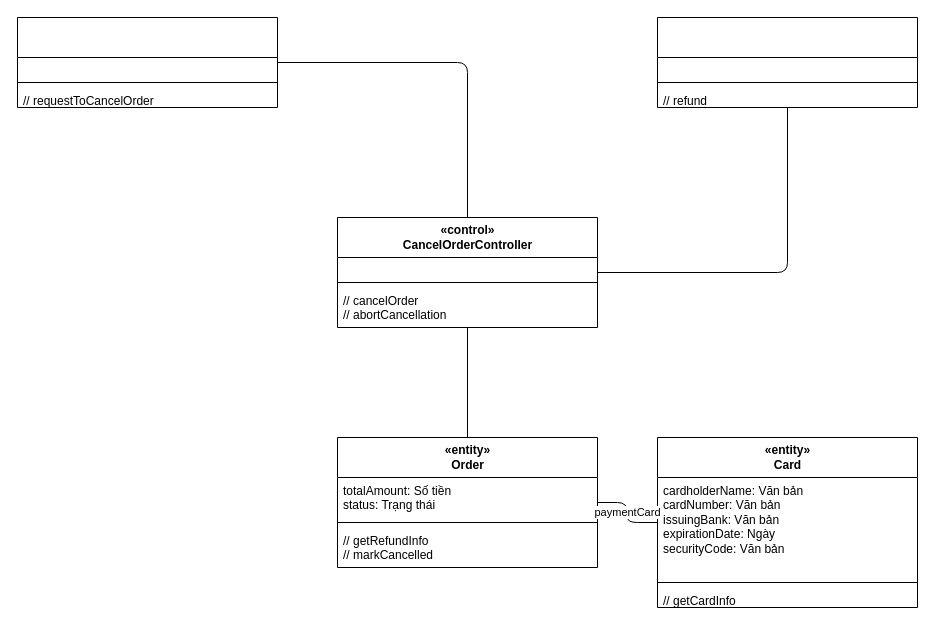
This 935x628 diagram has some shape labels left out. Each missing label, with the box of its shape:
«boundary» CancelOrderForm: (16, 16, 278, 108)
«boundary» InterbankBoundary: (656, 16, 918, 108)
